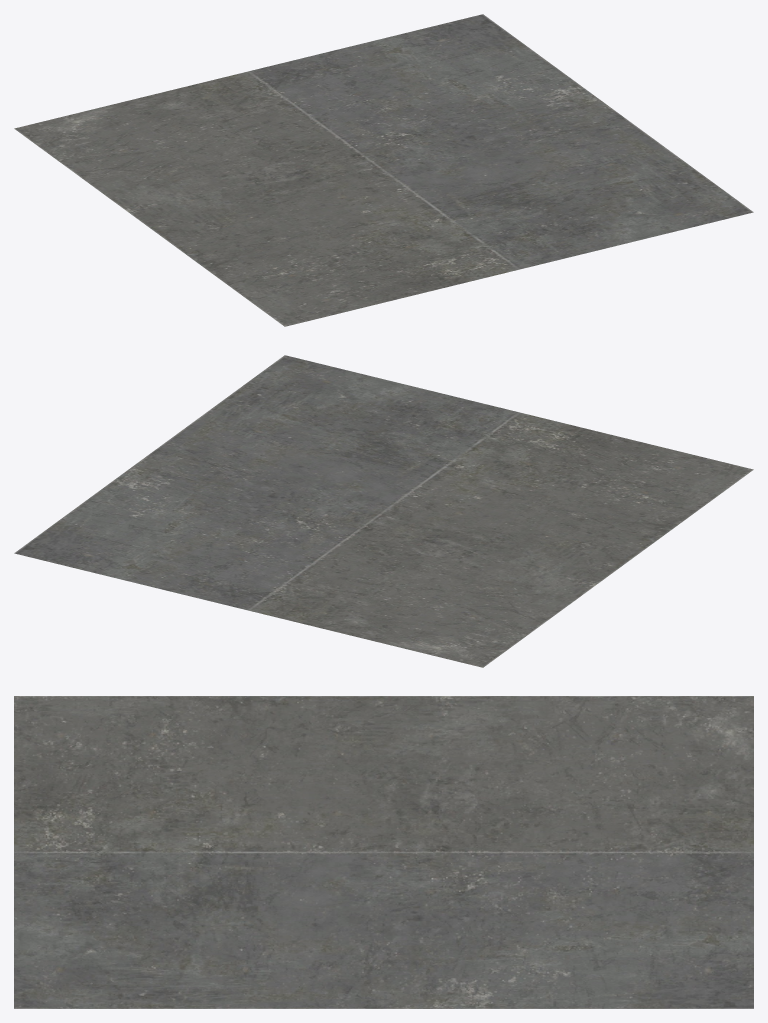
File: SM_Ceiling_200u.glb
3 renders of one model, top to bottom at view 1: azimuth 30°, elevation 25°; view 2: azimuth 150°, elevation 25°; view 3: azimuth 270°, elevation 25°, orthographic. The views are drawn at different scales.
Parts seen in each view (by area): view 1: SM_Ceiling_200u; view 2: SM_Ceiling_200u; view 3: SM_Ceiling_200u.
Boxes of the visible parts, box(x1,y1,x2,y2) form: SM_Ceiling_200u: box(14, 14, 753, 326); SM_Ceiling_200u: box(14, 355, 753, 667); SM_Ceiling_200u: box(14, 696, 753, 1008).
Bounding box in the file's own units: 2.6 × 1.59e-16 × 2.6.
1 material, 1 textured.
